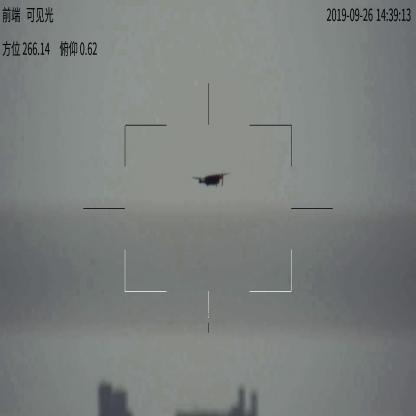uav: (189, 172, 226, 189)
